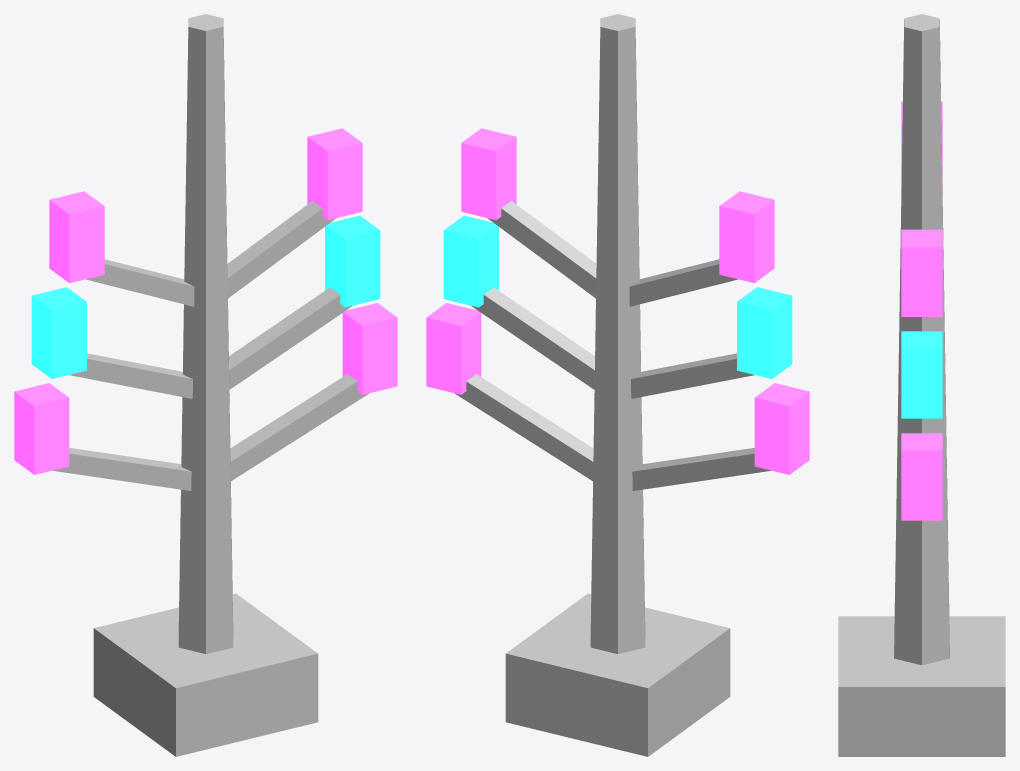
The picture shows the model from 3 angles, left to right: view 1: azimuth 30°, elevation 25°; view 2: azimuth 150°, elevation 25°; view 3: azimuth 270°, elevation 25°; orthographic projection.
Visible parts, largest first — view 1: Neon_AntennaTree_Simple; view 2: Neon_AntennaTree_Simple; view 3: Neon_AntennaTree_Simple.
Part boxes in pixels (<box>): Neon_AntennaTree_Simple: <box>14,14,397,756</box>; Neon_AntennaTree_Simple: <box>426,14,809,756</box>; Neon_AntennaTree_Simple: <box>838,14,1005,756</box>.
Size of the model in its own units: 1.66 by 3 by 0.65.
